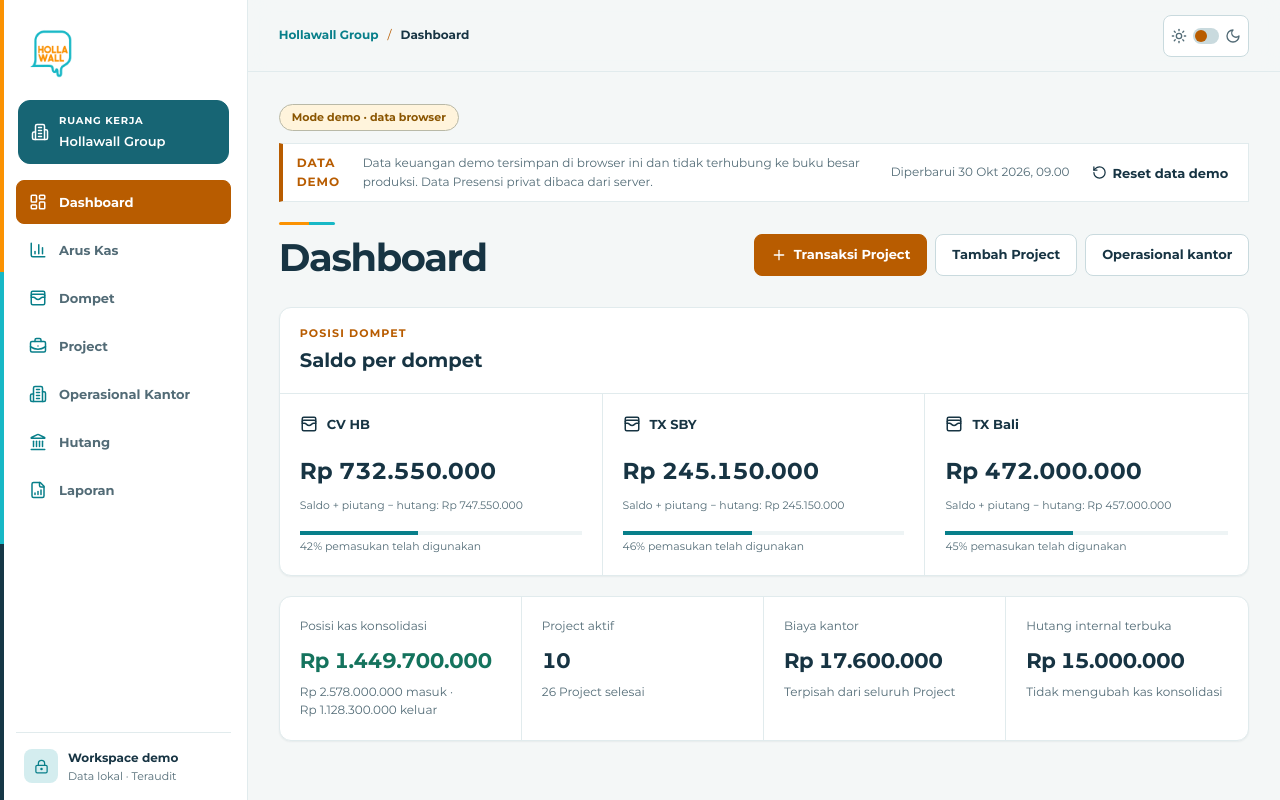
Hollawall demo finance workspace › opens Project creation from the dashboard into the writable demo workspace
The image size is (1280, 800).
Click the button "Tambah Project".
click(1006, 255)  # box [935,234,1077,276]
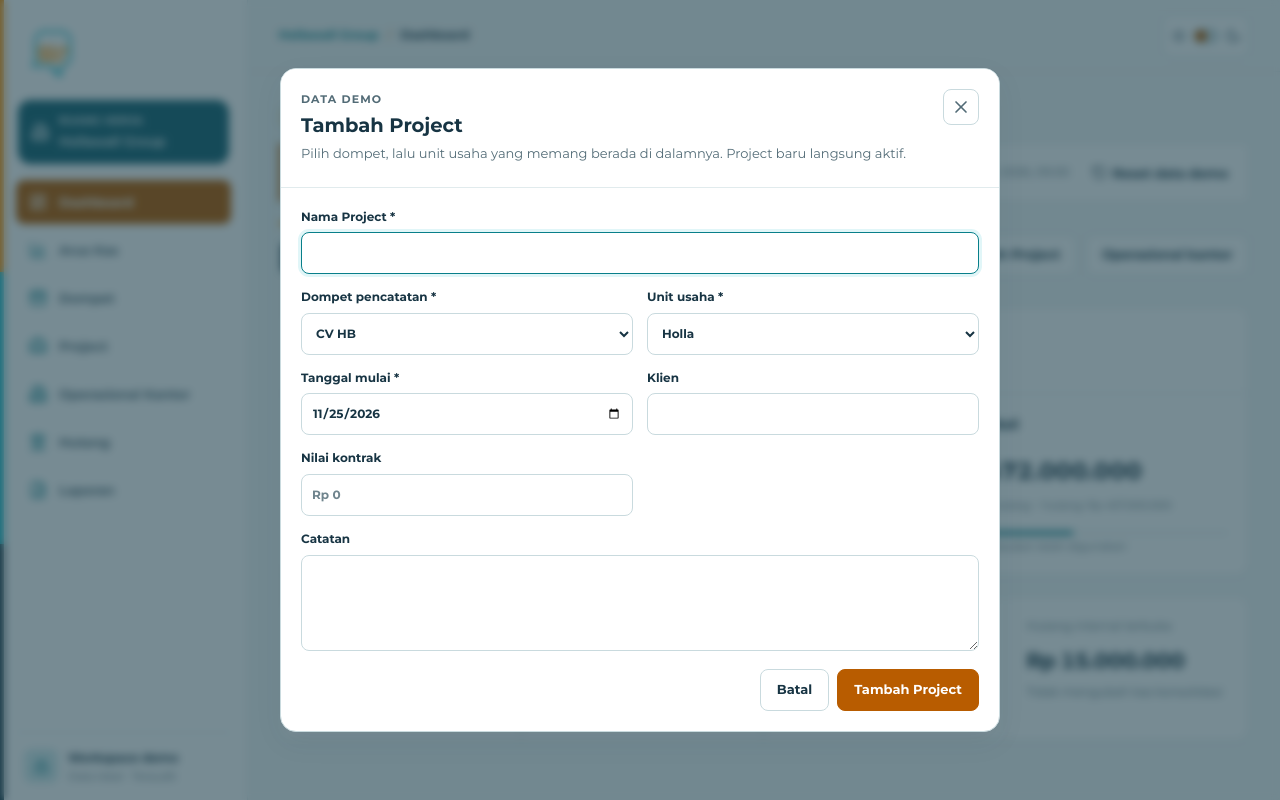
Result: the dialog is shown at [280,68,1000,732]
Result: the heading "Tambah Project" is shown at [301,113,463,137]
